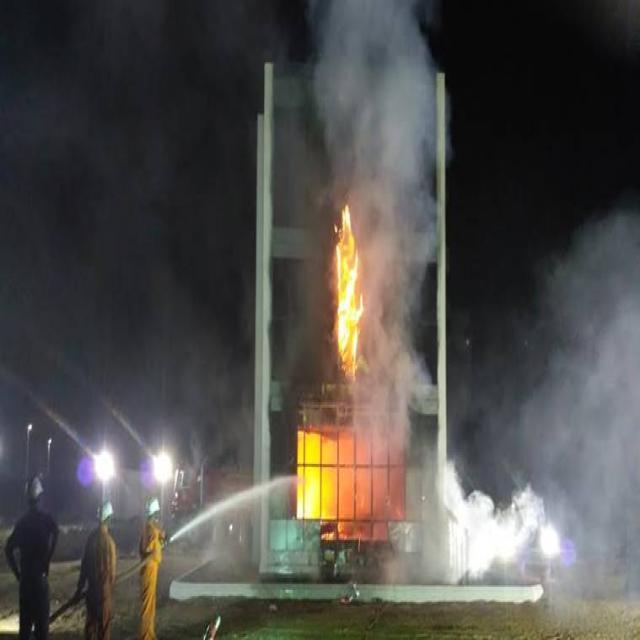Fire: (336, 200, 364, 380), (298, 453, 334, 539), (320, 524, 350, 542), (392, 506, 406, 520)
Smoke: (525, 196, 640, 605), (306, 0, 453, 202), (360, 194, 440, 458), (406, 458, 558, 584)
